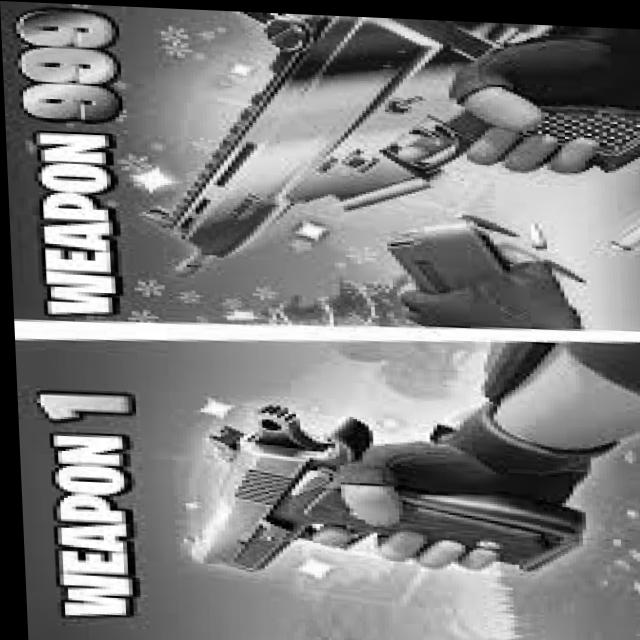handgun: (129, 5, 640, 291), (169, 395, 570, 581)
